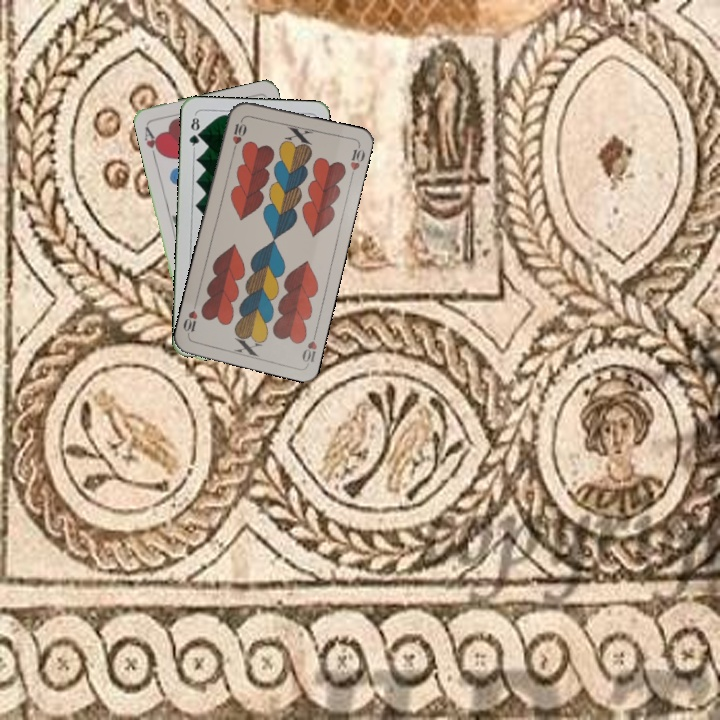G8: (185, 111, 203, 152)
H10: (298, 326, 320, 366), (228, 114, 248, 154)
HA: (140, 122, 164, 162)
